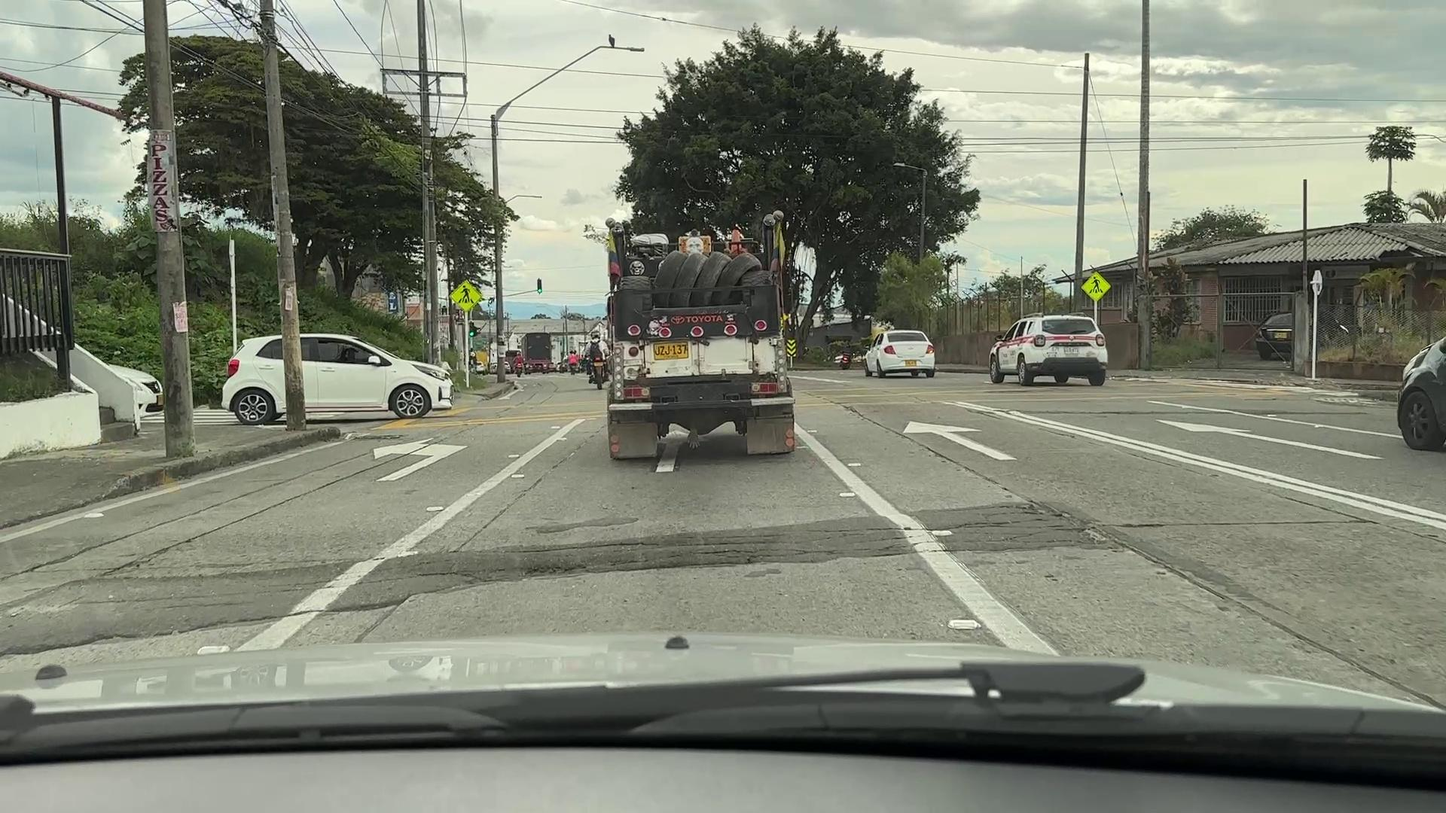grieta: (2, 599, 403, 656), (1001, 500, 1165, 547), (101, 532, 208, 577), (615, 554, 795, 571), (871, 535, 973, 557), (866, 521, 1020, 533), (508, 543, 660, 553), (694, 549, 843, 555)
